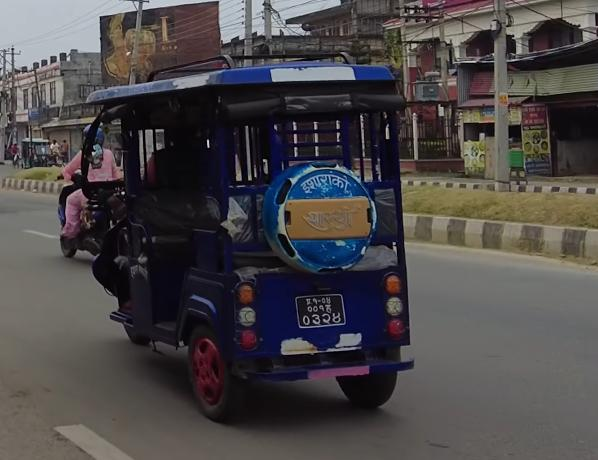e-rickshaw: (94, 48, 415, 417)
